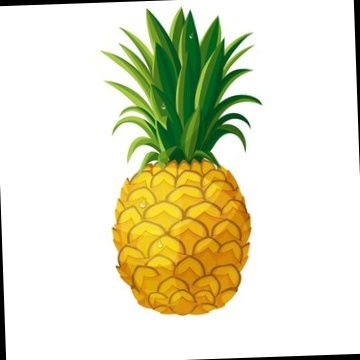Pineapple: (99, 6, 265, 316)
